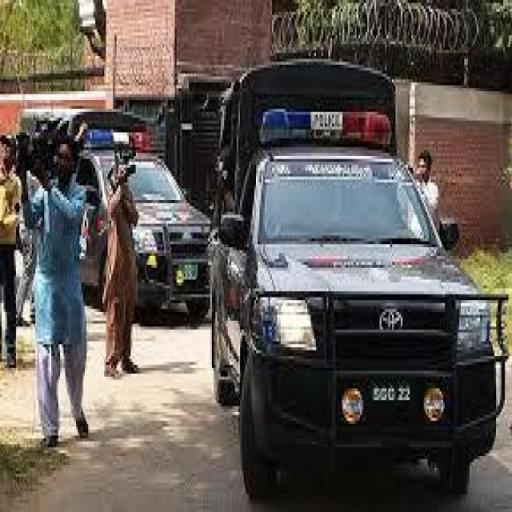Ambulance: (217, 65, 512, 512)
